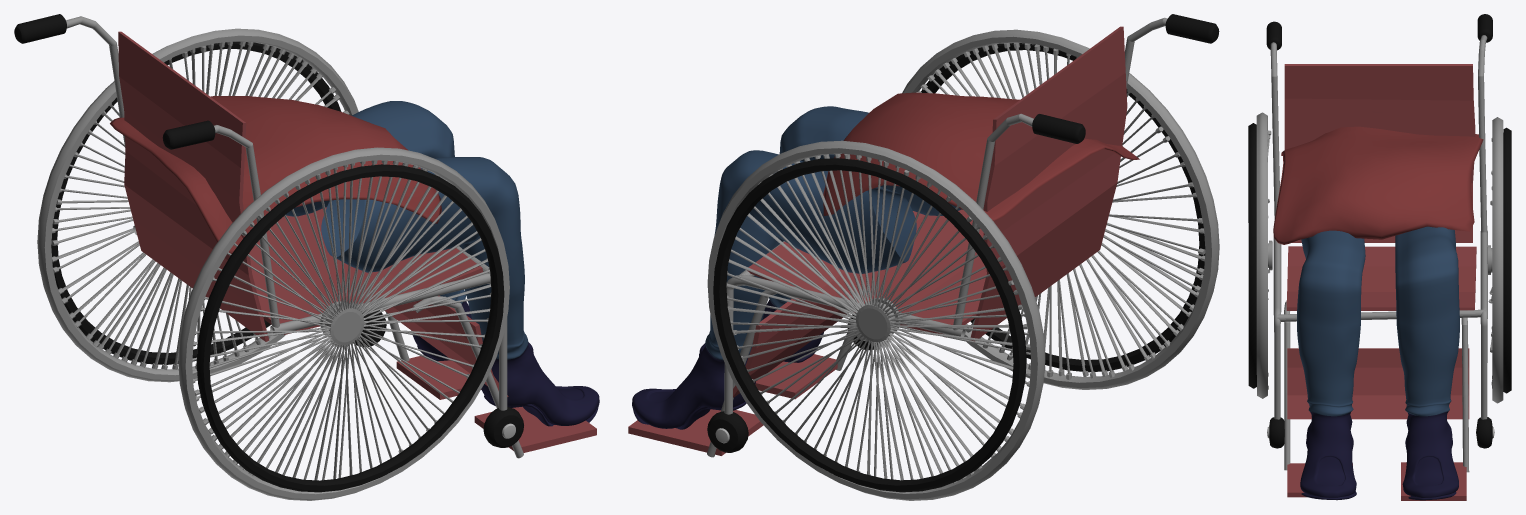
Rendered from Wheelchair_2.fbx.
3 views of the same model, side by side, from view 1: azimuth 30°, elevation 25°; view 2: azimuth 150°, elevation 25°; view 3: azimuth 270°, elevation 25° (orthographic). The views are drawn at different scales.
Visible parts, largest first — view 1: Boot_OBJ:Boot_OBJ:Boot_OBJ:Boot_OBJ:polySurface390, polySurface389, Boot_OBJ:Boot_OBJ:polySurface389; view 2: Boot_OBJ:Boot_OBJ:Boot_OBJ:Boot_OBJ:polySurface390, Boot_OBJ:Boot_OBJ:polySurface389, polySurface389; view 3: Boot_OBJ:Boot_OBJ:Boot_OBJ:Boot_OBJ:polySurface390, polySurface389, Boot_OBJ:Boot_OBJ:polySurface389.
Part boxes in pixels (x1,y1,x2,y2): Boot_OBJ:Boot_OBJ:Boot_OBJ:Boot_OBJ:polySurface390: (14, 14, 599, 458); polySurface389: (178, 147, 509, 500); Boot_OBJ:Boot_OBJ:polySurface389: (37, 28, 358, 382); Boot_OBJ:Boot_OBJ:Boot_OBJ:Boot_OBJ:polySurface390: (628, 14, 1219, 457); Boot_OBJ:Boot_OBJ:polySurface389: (707, 140, 1045, 500); polySurface389: (902, 29, 1219, 389); Boot_OBJ:Boot_OBJ:Boot_OBJ:Boot_OBJ:polySurface390: (1266, 14, 1494, 500); polySurface389: (1248, 112, 1272, 398); Boot_OBJ:Boot_OBJ:polySurface389: (1487, 117, 1511, 403).
Bounding box in the file's own units: 31.6 × 26.99 × 20.
